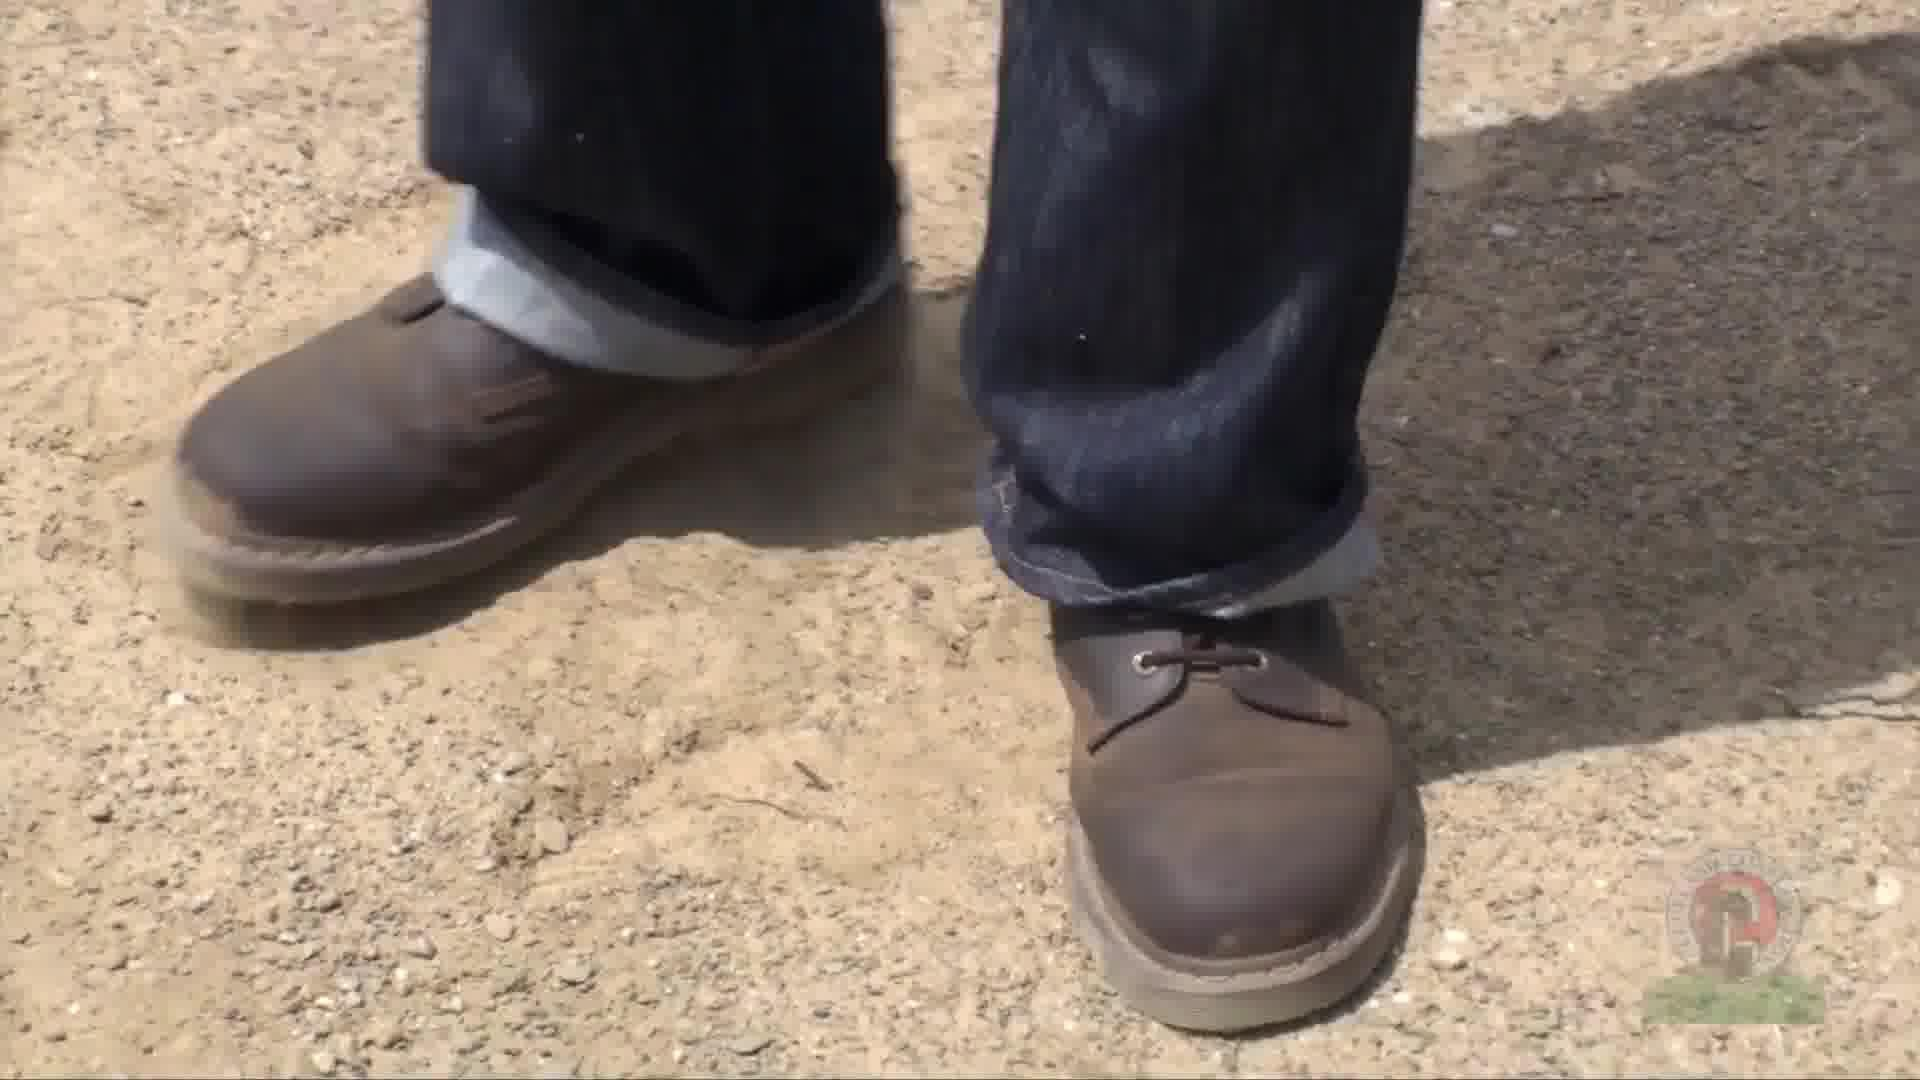safety boot: (149, 75, 1464, 1077)
